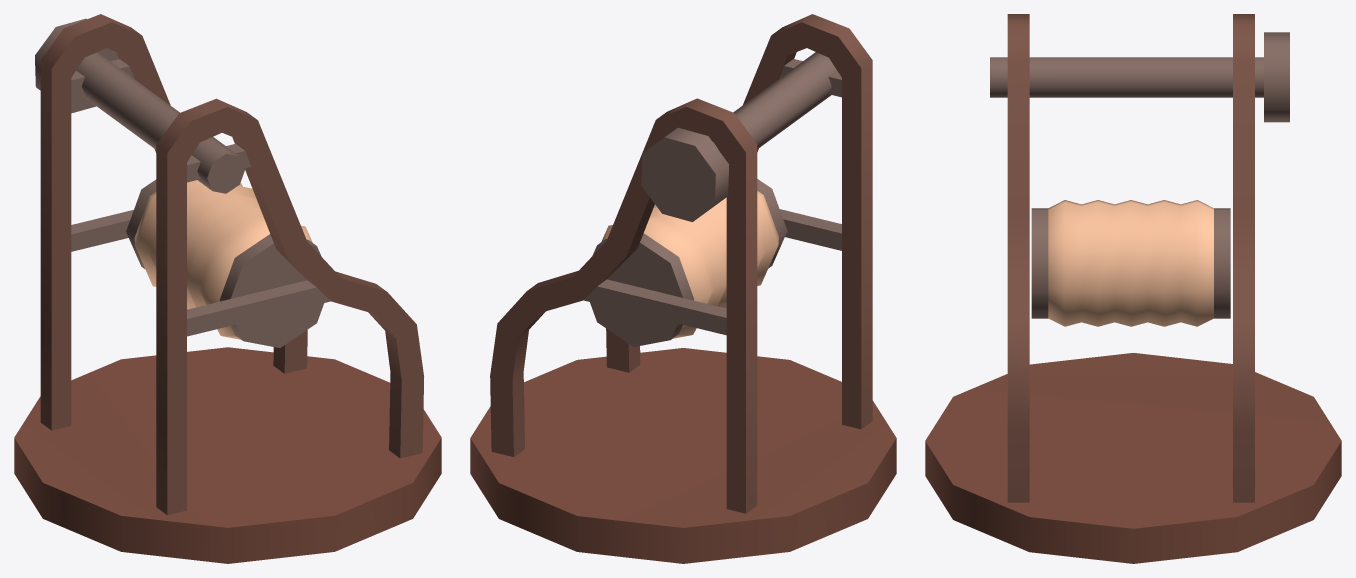
The model's file is n4_crane_001_lev4.glb.
3 renders of one model, left to right at view 1: azimuth 30°, elevation 25°; view 2: azimuth 150°, elevation 25°; view 3: azimuth 270°, elevation 25°, orthographic. The views are drawn at different scales.
Parts seen in each view (by area): view 1: n4_crane_001_lev4; view 2: n4_crane_001_lev4; view 3: n4_crane_001_lev4.
Part boxes in pixels (x1,y1,x2,y2): n4_crane_001_lev4: (14,14,441,563); n4_crane_001_lev4: (470,14,896,563); n4_crane_001_lev4: (925,14,1341,563).
Size of the model in its own units: 1.34 by 1.49 by 1.34.
1 material, 1 textured.
